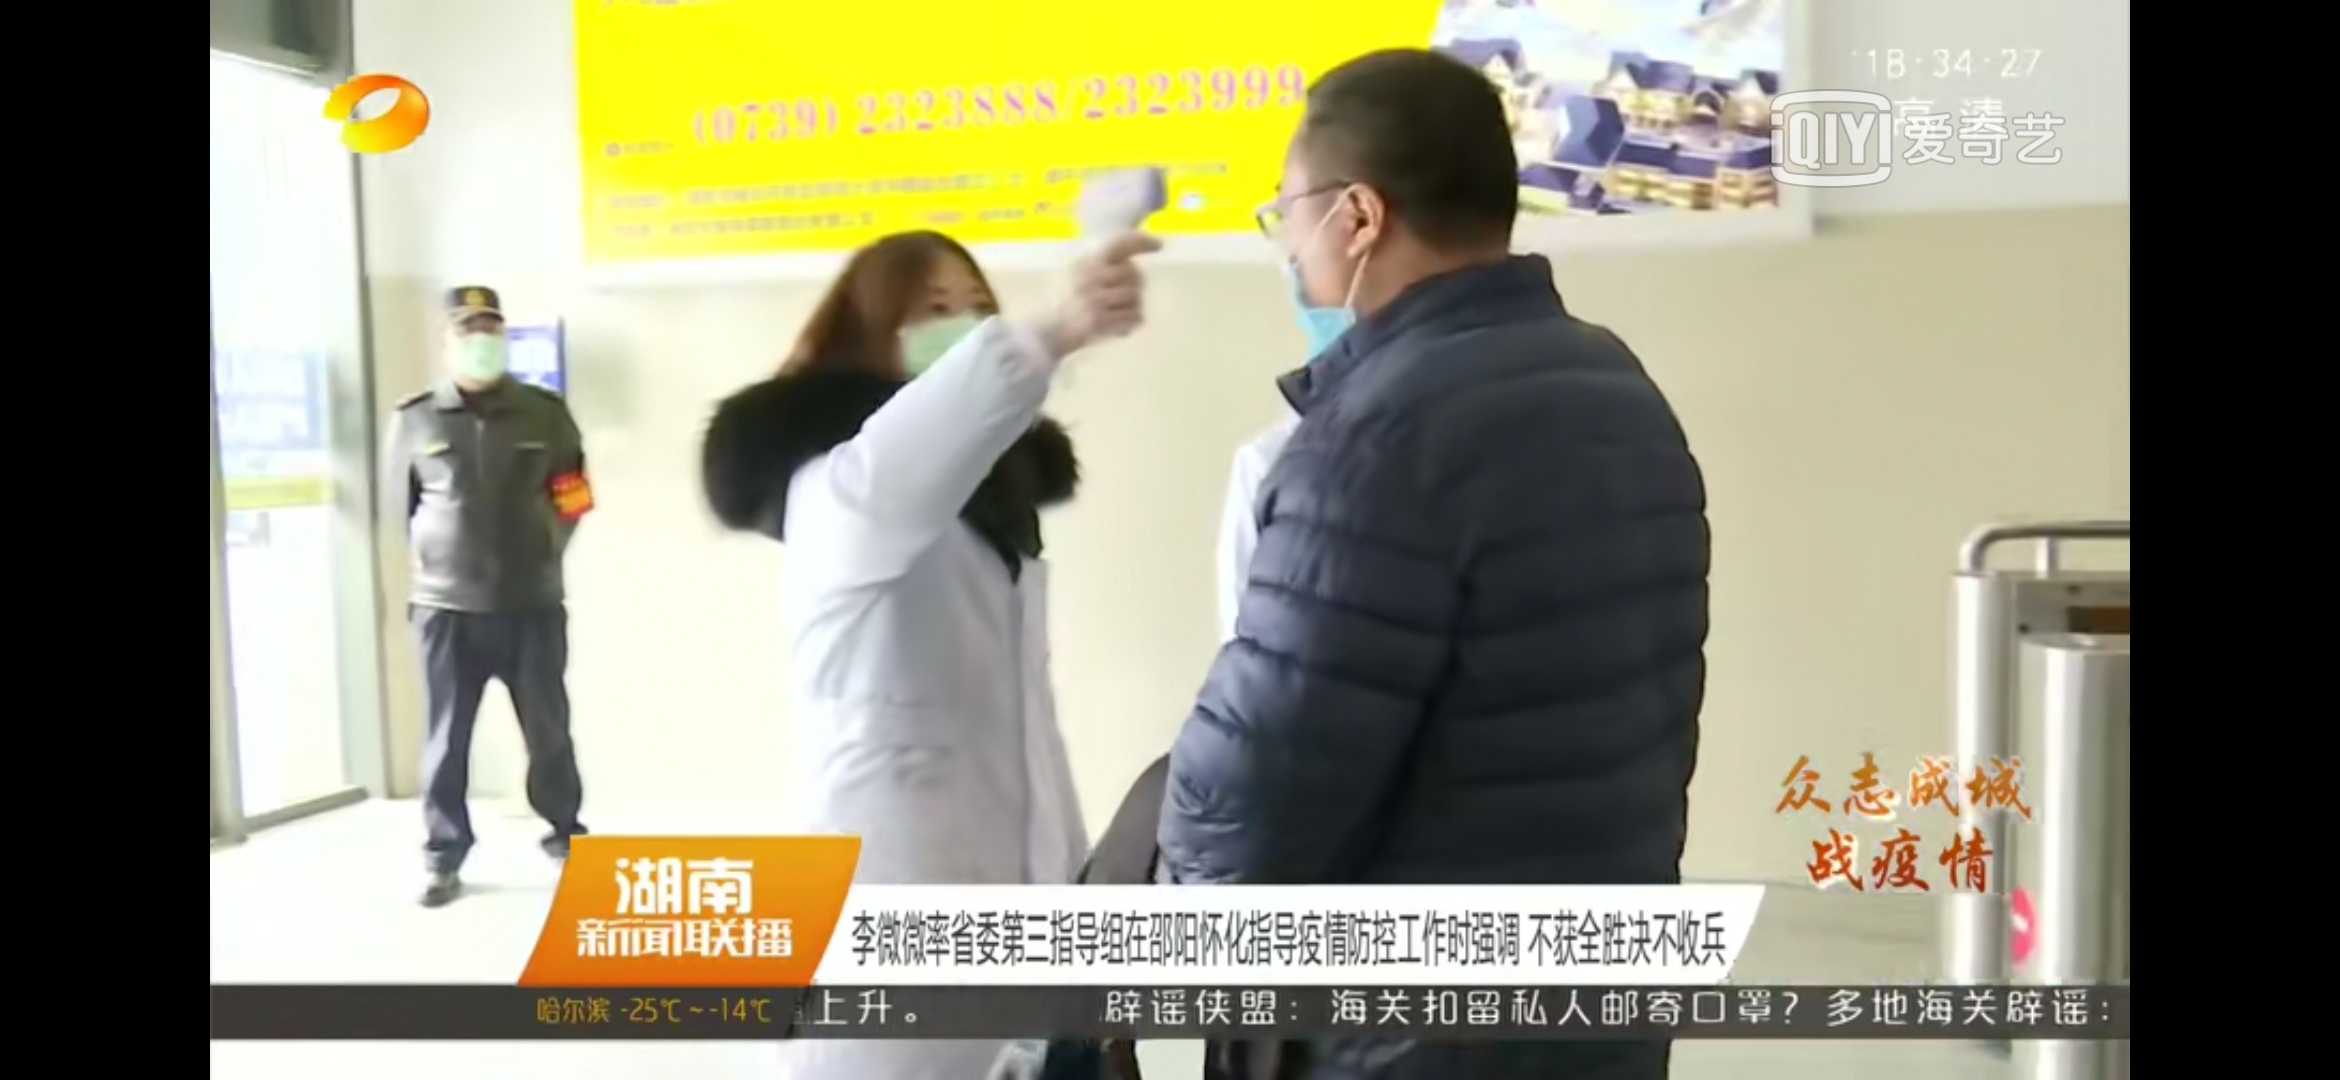correctlyWear: (1257, 136, 1400, 352), (894, 269, 1000, 391), (442, 309, 513, 383)
